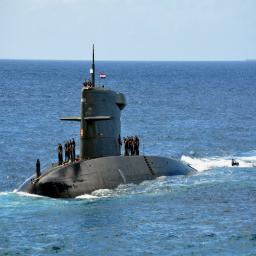submarine: (16, 37, 241, 196)
